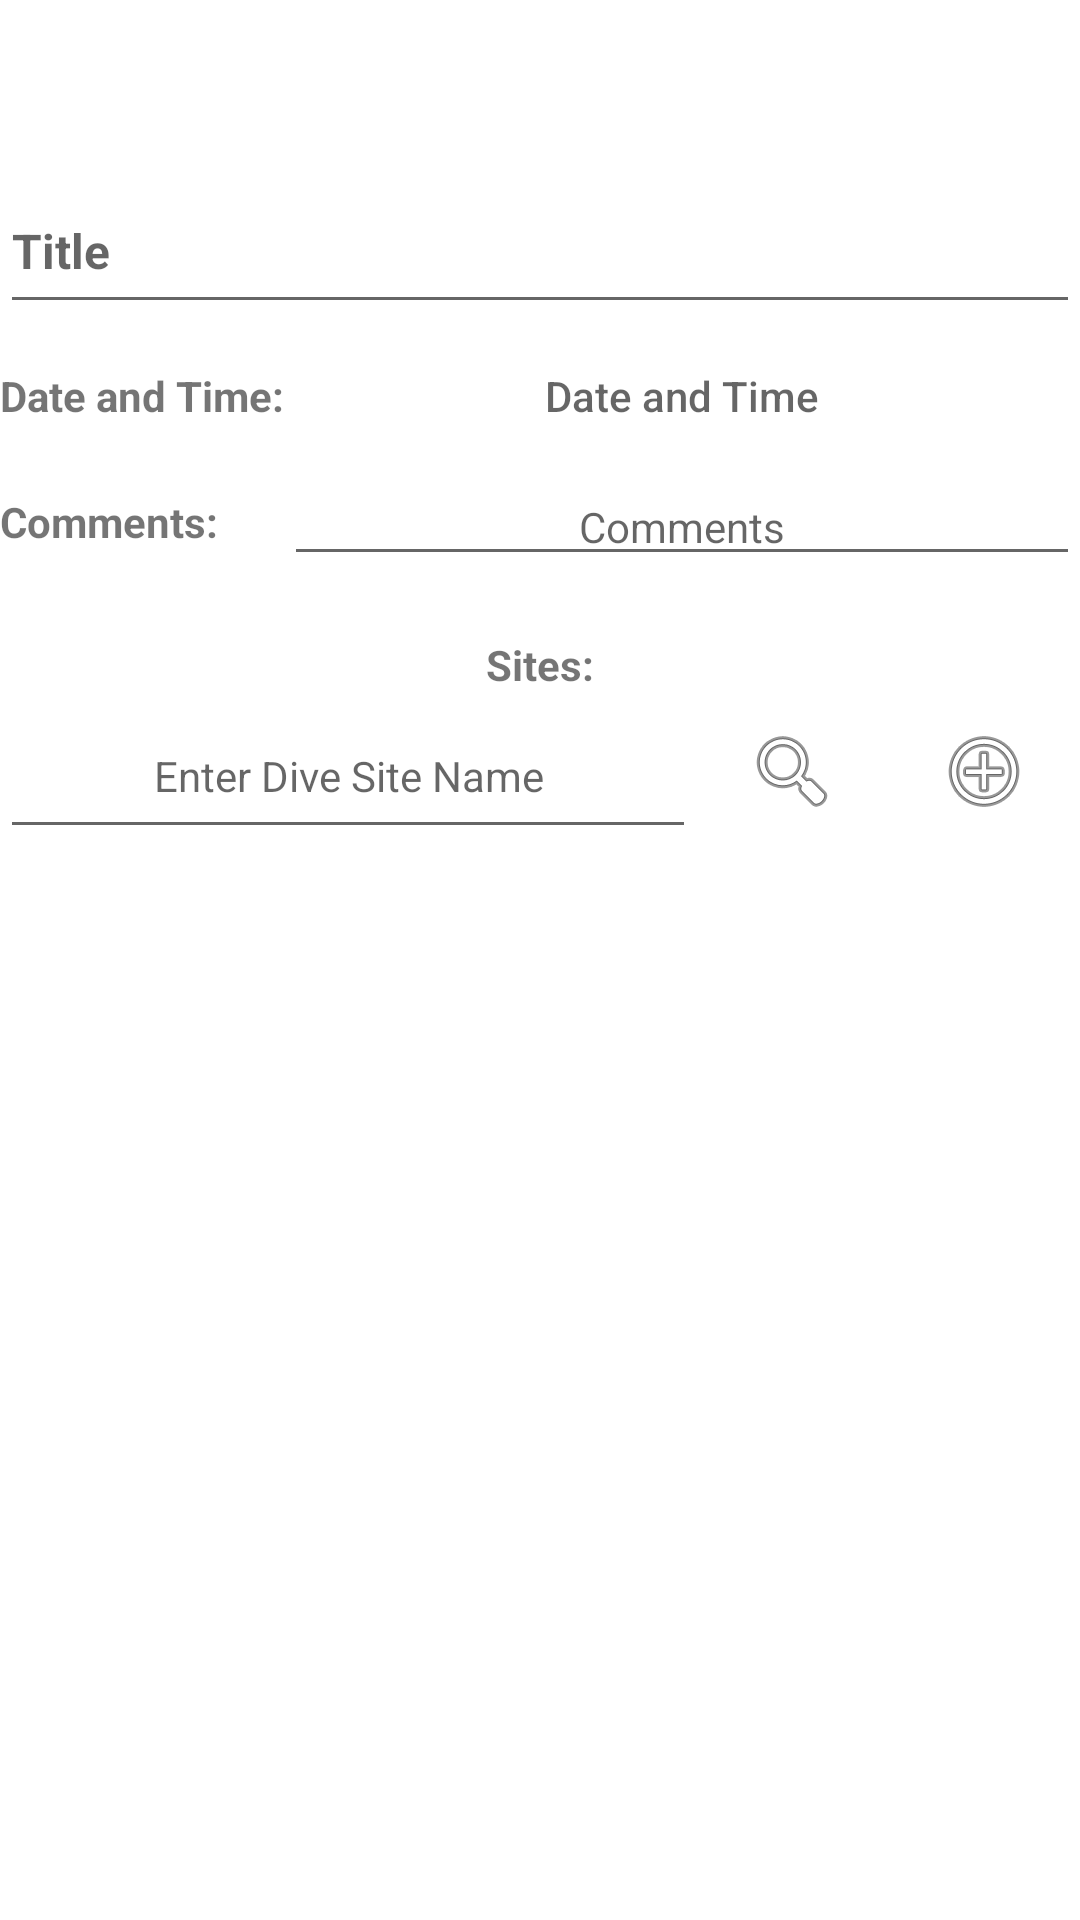

Named icons in this screenshot (1080×1920) and their bounding boxes, (x1, y1, x2, y2):
Add Dive Site: (948, 736, 1020, 807)
Search: (756, 736, 828, 807)
